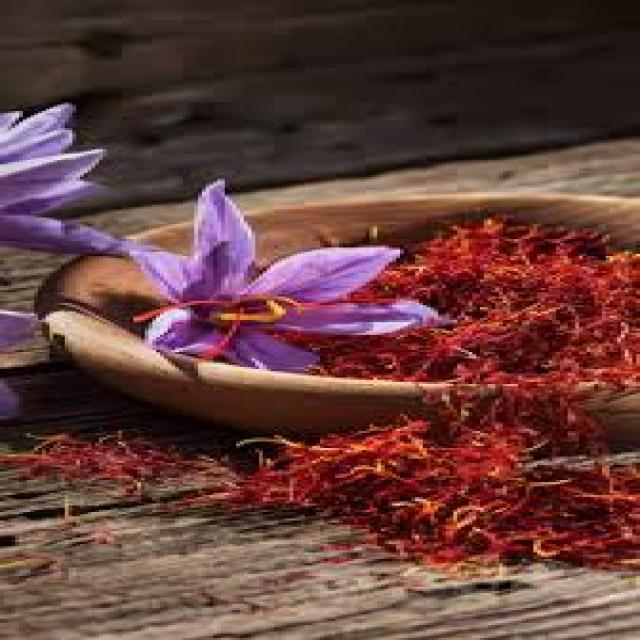Flower: (124, 180, 422, 392), (0, 102, 152, 268)
stigma: (128, 293, 238, 323), (197, 326, 236, 364)
